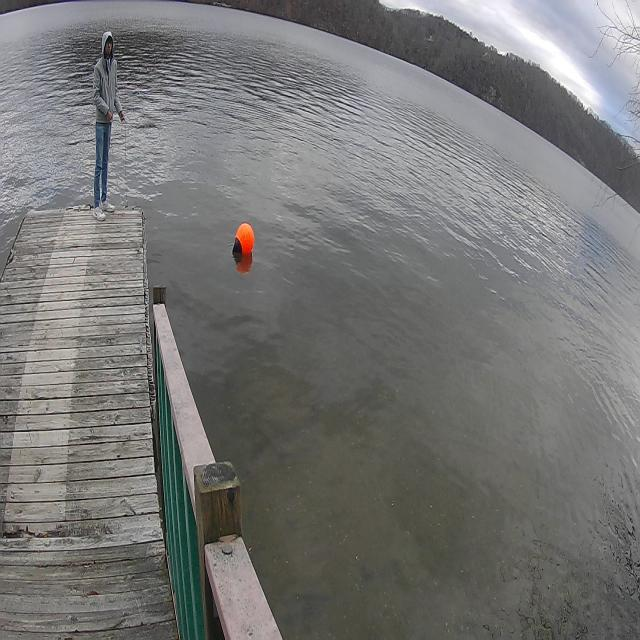Buoy: (232, 221, 256, 266)
